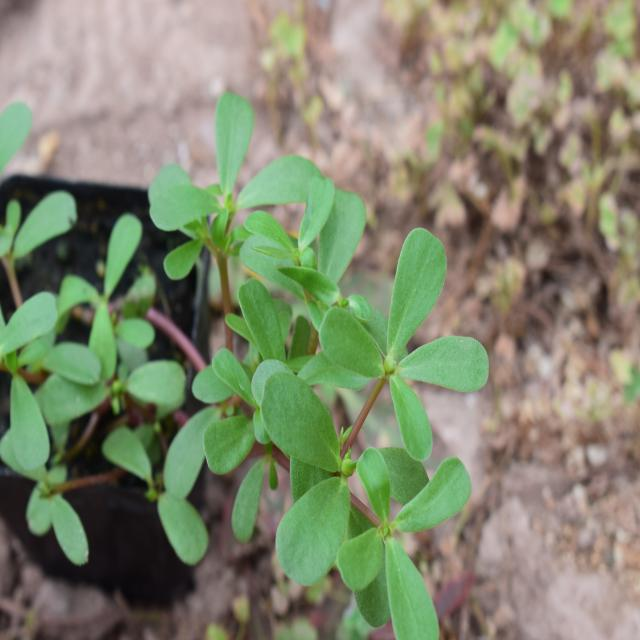purslane: (6, 127, 491, 631)
